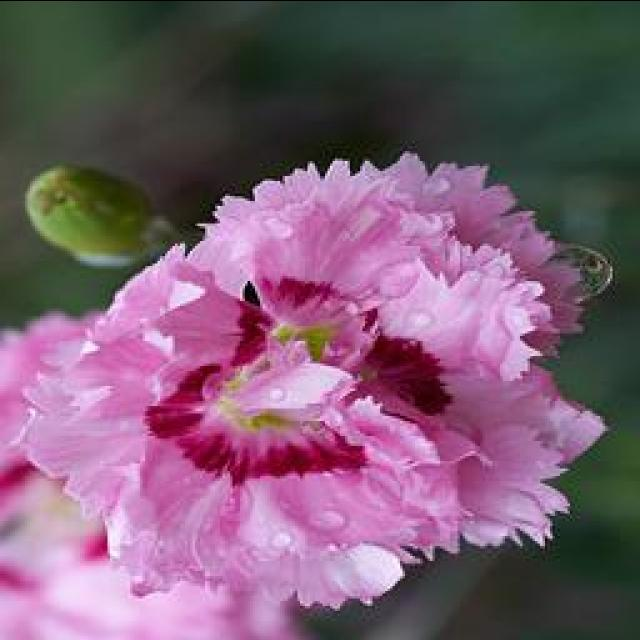carnation: (40, 127, 610, 601)
